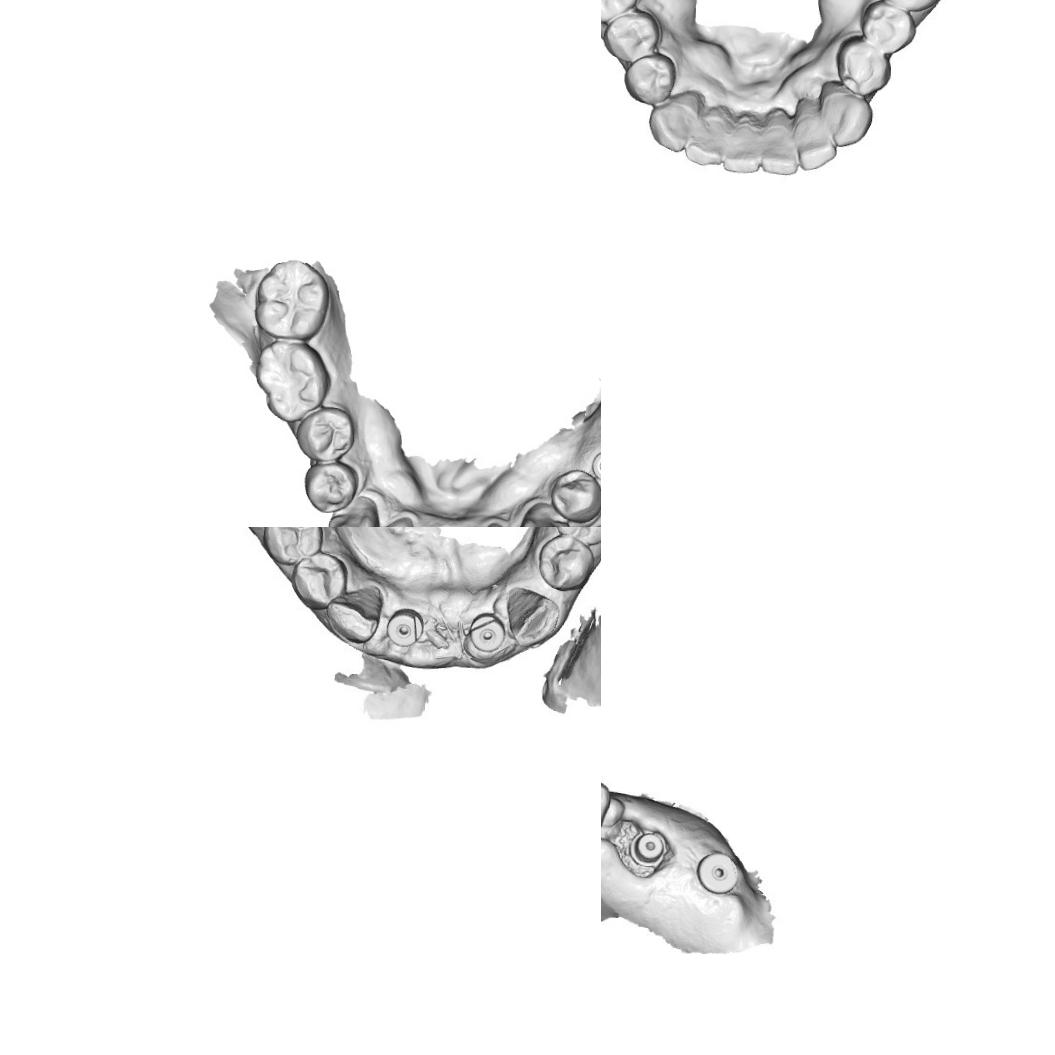canine: (818, 81, 872, 150), (324, 586, 386, 644), (646, 92, 700, 154), (505, 588, 559, 648), (321, 493, 380, 527), (516, 499, 572, 527)
implant: (693, 845, 741, 895), (626, 828, 672, 870), (466, 610, 506, 656), (383, 604, 424, 646)
implant_plus: (589, 448, 601, 481)
incisor: (796, 104, 842, 171), (686, 106, 730, 168), (722, 115, 764, 174), (763, 113, 800, 176), (364, 513, 418, 527)
molar: (252, 334, 333, 426), (251, 256, 334, 342)
premolar: (294, 403, 362, 466), (301, 458, 363, 516), (838, 36, 894, 98), (857, 0, 916, 56), (549, 466, 601, 526), (540, 537, 594, 593), (293, 552, 344, 606), (626, 55, 677, 106), (260, 527, 323, 567), (606, 12, 658, 60), (551, 527, 601, 544)
